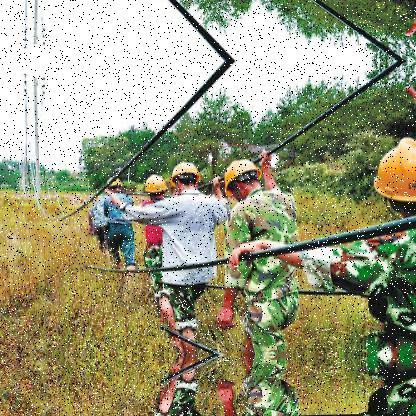Helmet: (371, 130, 415, 220), (225, 154, 266, 202), (172, 162, 204, 196), (146, 172, 172, 200), (102, 172, 124, 192)
